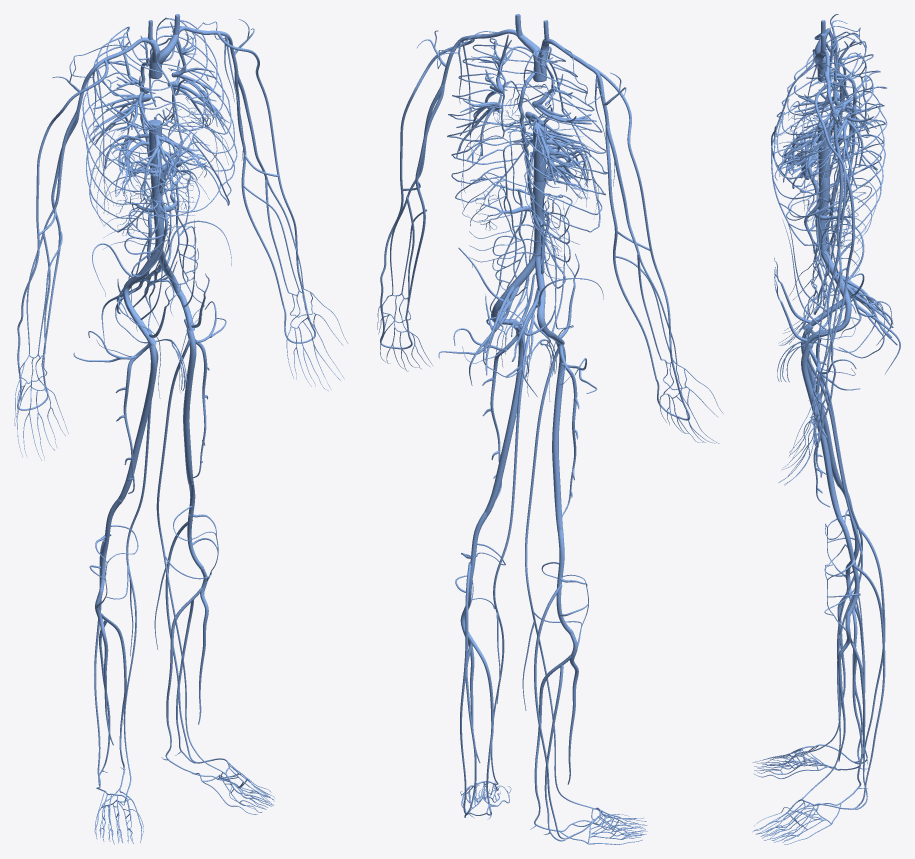
The model's file is male-venous.glb.
3 renders of one model, left to right at view 1: azimuth 30°, elevation 25°; view 2: azimuth 150°, elevation 25°; view 3: azimuth 270°, elevation 25°, orthographic. The views are drawn at different scales.
Visible parts, largest first — view 1: FJ1994, FJ1985, FJ2103, FJ2145, FJ2144, FJ2102, FJ2272, FJ2220, FJ2218, FJ2404, FJ2270, FJ2121; view 2: FJ1994, FJ1985, FJ2145, FJ2103, FJ2144, FJ2102, FJ2272, FJ2220, FJ2270, FJ2176, FJ2218, FJ2121; view 3: FJ1985, FJ1994, FJ2103, FJ2102, FJ2220, FJ2145, FJ2121, FJ2218, FJ2144, FJ2176, FJ2183, FJ3659 (+13 smaller).
Boxes of the visible parts, <box> form: FJ1994: <box>81,26,182,231</box>; FJ1985: <box>151,17,237,204</box>; FJ2103: <box>154,338,222,771</box>; FJ2145: <box>123,347,158,795</box>; FJ2144: <box>118,343,157,503</box>; FJ2102: <box>183,329,196,484</box>; FJ2272: <box>17,59,108,378</box>; FJ2220: <box>217,31,307,309</box>; FJ2218: <box>234,73,284,306</box>; FJ2404: <box>125,131,203,202</box>; FJ2270: <box>41,111,79,364</box>; FJ2121: <box>165,520,211,763</box>; FJ1994: <box>520,50,607,244</box>; FJ1985: <box>447,38,551,217</box>; FJ2145: <box>522,348,593,808</box>; FJ2103: <box>491,341,526,784</box>; FJ2144: <box>552,342,565,532</box>; FJ2102: <box>485,329,523,515</box>; FJ2272: <box>589,64,680,393</box>; FJ2220: <box>380,39,474,321</box>; FJ2270: <box>605,129,656,379</box>; FJ2176: <box>534,584,582,839</box>; FJ2218: <box>405,87,444,318</box>; FJ2121: <box>460,562,471,815</box>; FJ1985: <box>772,52,887,248</box>; FJ1994: <box>773,31,886,199</box>; FJ2103: <box>802,356,863,799</box>; FJ2102: <box>801,343,841,517</box>; FJ2220: <box>814,83,846,418</box>; FJ2145: <box>802,334,863,752</box>; FJ2121: <box>842,565,885,809</box>; FJ2218: <box>824,143,854,399</box>; FJ2144: <box>801,325,842,486</box>; FJ2176: <box>841,527,885,762</box>; FJ2183: <box>837,615,850,761</box>; FJ3659: <box>816,176,829,252</box>.
Size of the model in its own units: 0.6487 by 1.46 by 0.2536.
